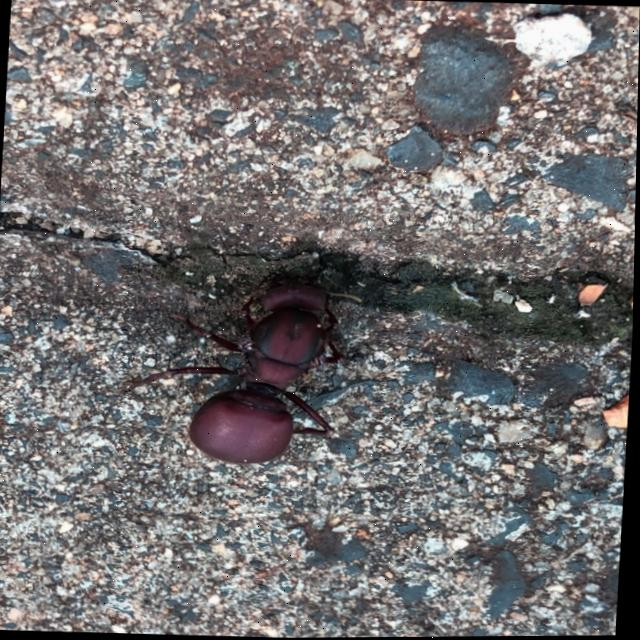Alive-Female-Dealate: (119, 258, 355, 469)
